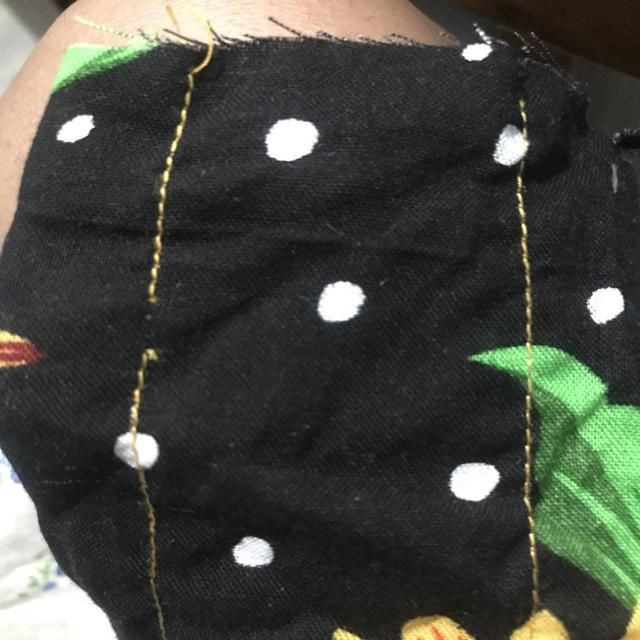broken: (129, 281, 181, 368)
good: (134, 175, 182, 249)
